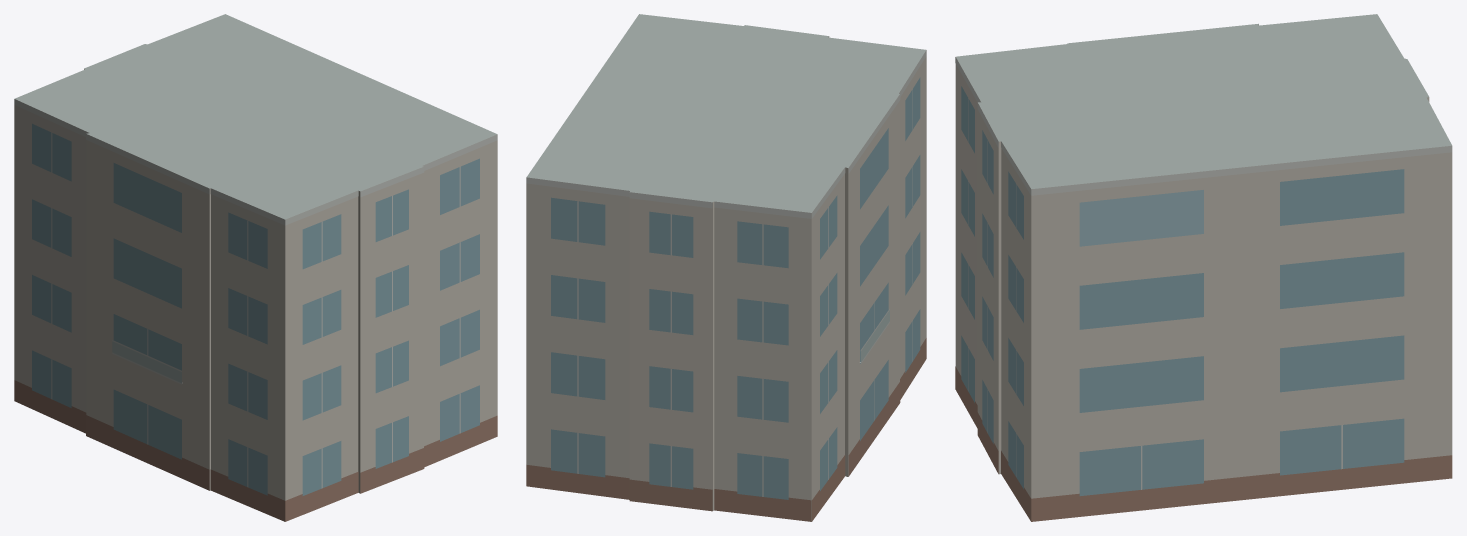
Rendered from survey-upis-32631662.glb.
3 views of the same model, side by side, from view 1: azimuth 30°, elevation 25°; view 2: azimuth 150°, elevation 25°; view 3: azimuth 270°, elevation 25° (orthographic). The views are drawn at different scales.
Parts seen in each view (by area): view 1: survey-upis-32631662.tmp; view 2: survey-upis-32631662.tmp; view 3: survey-upis-32631662.tmp.
Part boxes in pixels (x1,y1,x2,y2): survey-upis-32631662.tmp: [14, 14, 497, 521]; survey-upis-32631662.tmp: [526, 14, 926, 521]; survey-upis-32631662.tmp: [955, 14, 1452, 521].
Bounding box in the file's own units: 14.01 × 12.4 × 16.79.
